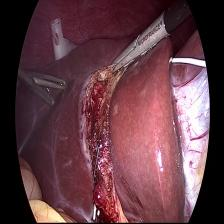Grasper: (107, 12, 170, 77), (14, 68, 70, 113)
Specimen Bag: (48, 18, 82, 64)
